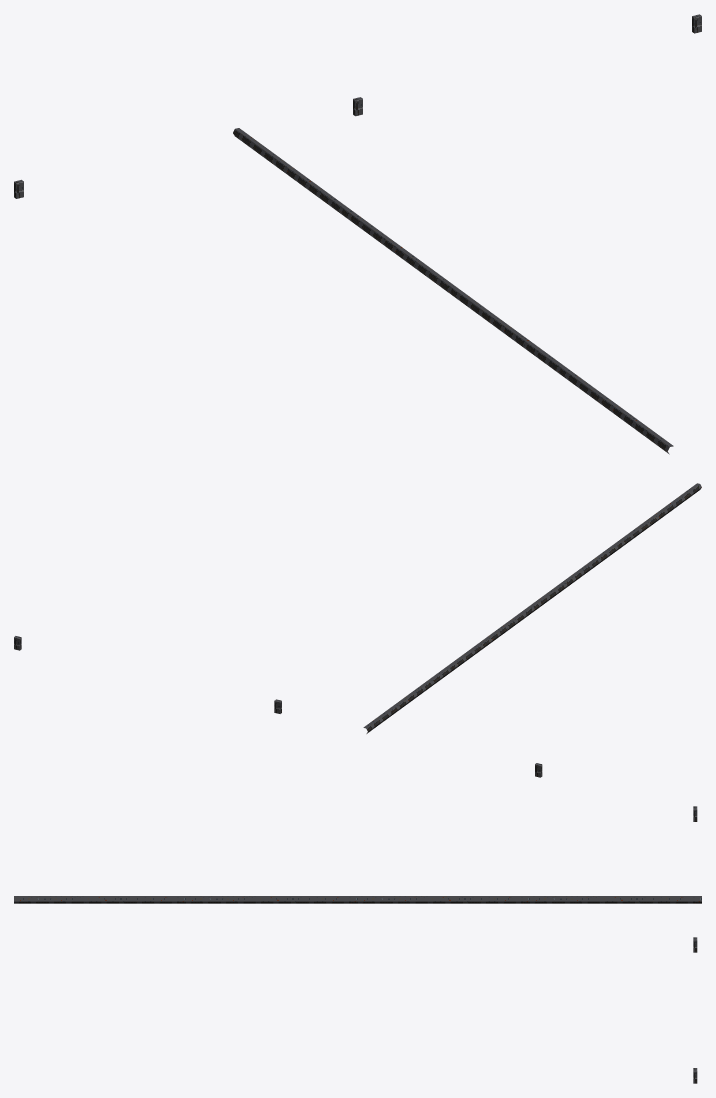
File: SM_Env_CableRun_01.glb
3 views of the same model, one above another, from view 1: azimuth 30°, elevation 25°; view 2: azimuth 150°, elevation 25°; view 3: azimuth 270°, elevation 25° (orthographic). The views are drawn at different scales.
Parts seen in each view (by area): view 1: SM_Env_CableRun_01; view 2: SM_Env_CableRun_01; view 3: SM_Env_CableRun_01.
Boxes of the visible parts, bbox=[...] form: SM_Env_CableRun_01: bbox=[14, 14, 701, 454]; SM_Env_CableRun_01: bbox=[14, 483, 701, 777]; SM_Env_CableRun_01: bbox=[14, 806, 701, 1083].
Bounding box in the file's own units: 3.64 × 0.08 × 4.
Materials: 1 (1 with a texture image).
